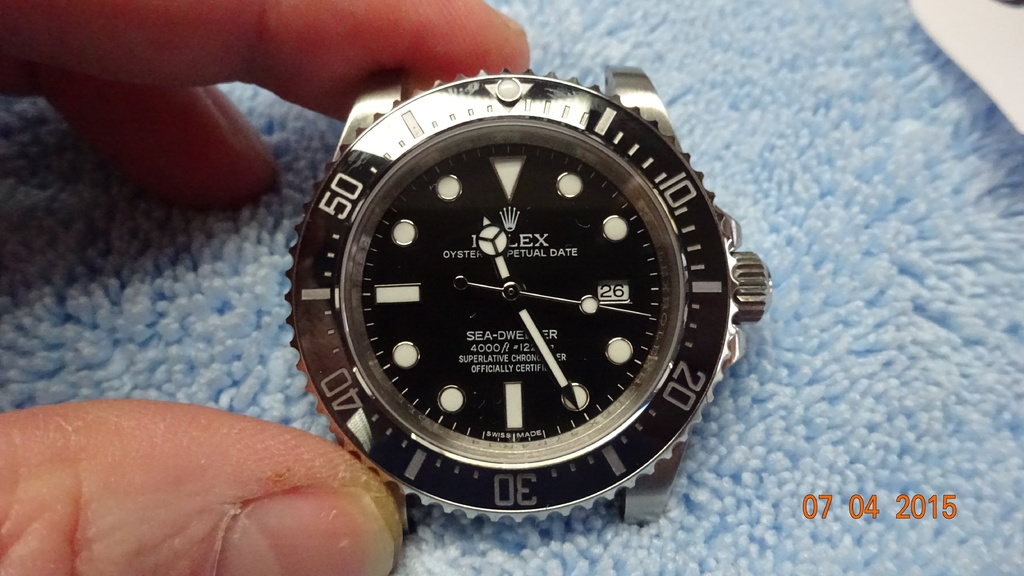watch: (279, 68, 753, 515)
